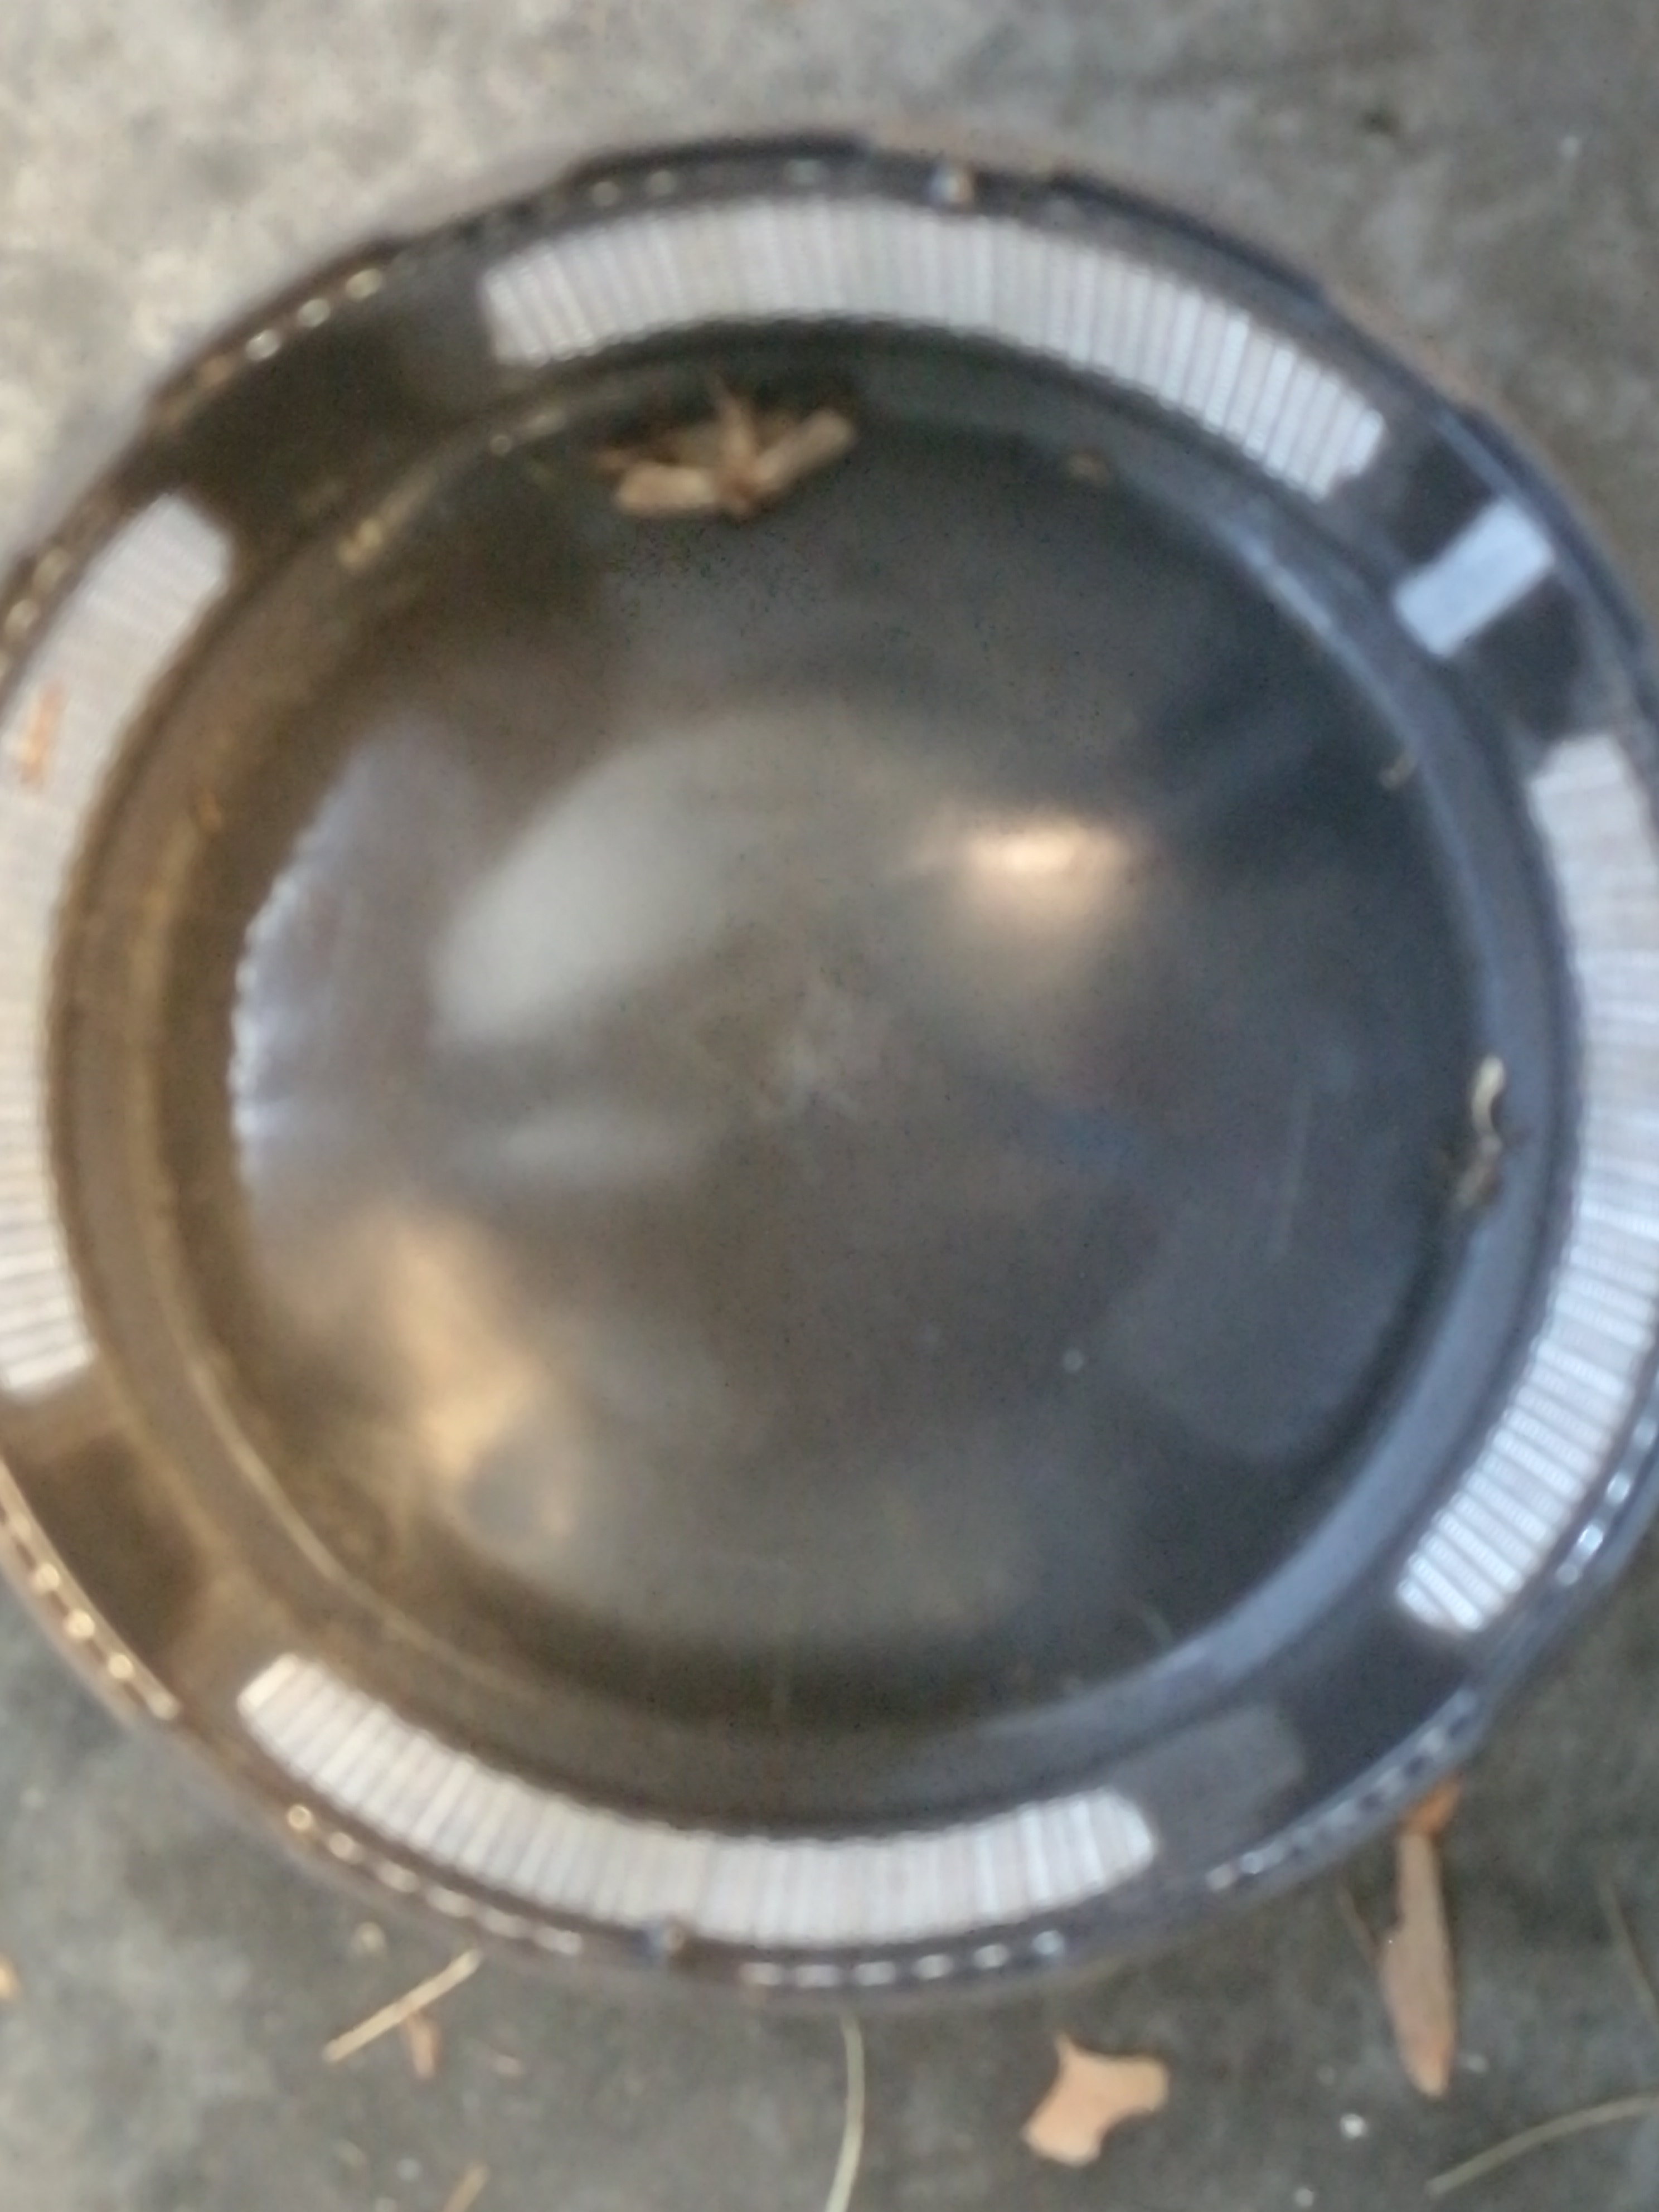beetle: (19, 688, 63, 792)
moth: (612, 404, 857, 519)
